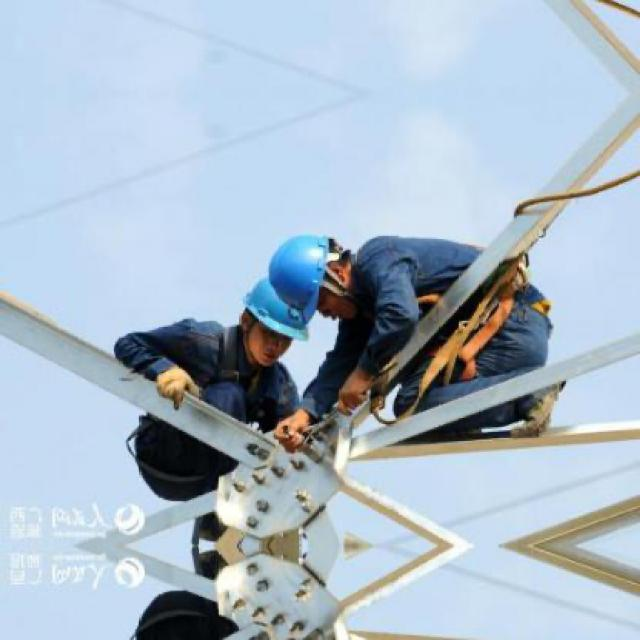helmet: (271, 231, 363, 316), (245, 273, 312, 369)
